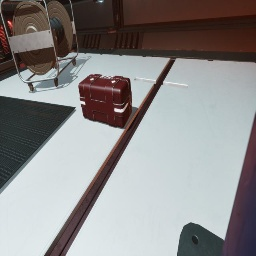FirstAidBox ,: (78, 74, 132, 128)
